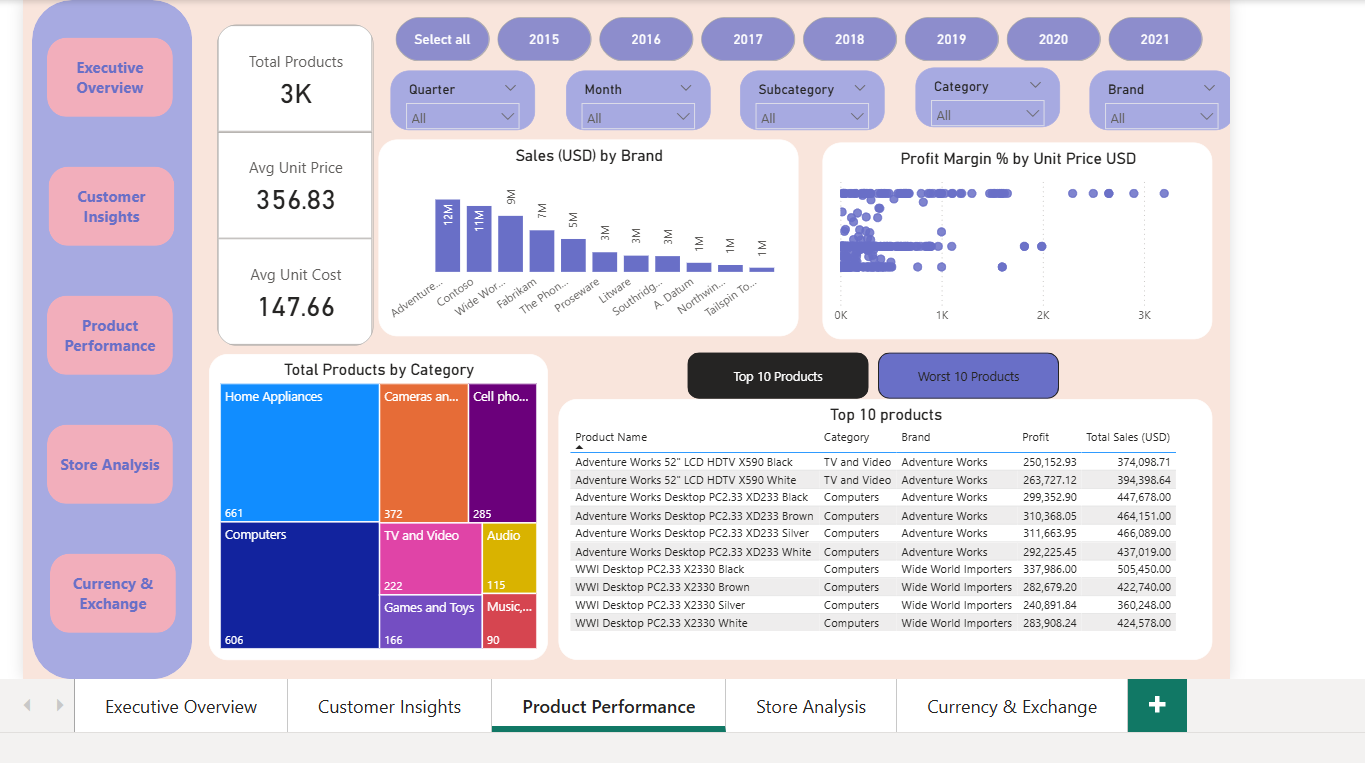

The dashboard page shown, as its layout file describes it:
{"tool":"powerbi","page":{"name":"Product Performance","canvas":[1280,720],"ordinal":2},"visuals":[{"type":"group","id":"g1","title":"Group 3","box":[10,0,170,720.4],"z":0},{"type":"actionButton","box":[28.4,177.4,133.6,84.3],"z":0,"group":"g2"},{"type":"cardVisual","fields":{"Data":["Products.Total Products","Products.Average Unit Price (USD)","Products.Average Unit Cost (USD)"]},"box":[200.4,20.7,176.6,353.1],"z":1000},{"type":"actionButton","box":[26.7,314.3,133.6,84.3],"z":1000,"group":"g2"},{"type":"shape","box":[10,0,170,720.4],"z":2000,"group":"g1"},{"type":"slicer","fields":{"Values":["Products.Brand"]},"box":[1130.9,74.8,153,63],"z":2000},{"type":"actionButton","box":[26.7,451.3,133.6,84.3],"z":2000,"group":"g2"},{"type":"slicer","fields":{"Values":["Category.Category"]},"box":[945.7,71.6,153,63],"z":3000},{"type":"actionButton","box":[30.1,588.2,133.6,84.3],"z":3000,"group":"g2"},{"type":"slicer","fields":{"Values":["Subcategory.Subcategory"]},"box":[760.4,74.8,153,63],"z":4000},{"type":"columnChart","title":"Sales (USD) by Brand","fields":{"Y":["Sales.Total Sales (USD)"],"Category":["Products.Brand"]},"box":[377,147.9,445.4,208.4],"z":5000},{"type":"treemap","fields":{"Group":["Category.Category","Subcategory.Subcategory"],"Values":["Products.Total Products"]},"box":[197.2,375.4,359.5,324.5],"z":6000},{"type":"scatterChart","fields":{"Y":["Sales.Profit Margin %"],"X":["Products.Unit Price USD"]},"box":[847.8,151.1,413.6,208.4],"z":7000},{"type":"actionButton","box":[26.7,40.5,133.6,84.3],"z":7001,"group":"g3"},{"type":"group","id":"g2","title":"Group 1","box":[26.7,177.4,137,495.1],"z":7006,"group":"g3"},{"type":"group","id":"g3","title":"Group 2","box":[26.7,40.5,137,632],"z":7007,"group":"g1"},{"type":"tableEx","title":"Top 10 products","fields":{"Values":["Products.Product Name","Category.Category","Products.Brand","Sales.Profit","Sales.Total Sales (USD)"]},"box":[567.8,423.1,693.5,276.8],"z":8000},{"type":"bookmarkNavigator","box":[704.6,373.8,394.5,49.3],"z":10000},{"type":"advancedSlicerVisual","fields":{"Values":["Date.Year"]},"box":[389.7,12.7,871.7,57.3],"z":11000},{"type":"slicer","fields":{"Values":["Date.Month"]},"box":[575.2,74.8,153,63],"z":12000},{"type":"slicer","fields":{"Values":["Date.Quarter"]},"box":[389.7,74.8,153,63.6],"z":13000}]}

Visuals, with their boxes on the page's 1280x720 design canvas (x1, y1, x2, y2). These are canvas units, not pixel positions in the 1365x763 screenshot, which may show the page scaled, cropped or inside an application window:
"Group 3" group: detection(10, 0, 180, 720)
actionButton: detection(28, 177, 162, 262)
cardVisual - Products.Total Products x Products.Average Unit Price (USD): detection(200, 21, 377, 374)
actionButton: detection(27, 314, 160, 399)
shape: detection(10, 0, 180, 720)
slicer - Products.Brand: detection(1131, 75, 1284, 138)
actionButton: detection(27, 451, 160, 536)
slicer - Category.Category: detection(946, 72, 1099, 135)
actionButton: detection(30, 588, 164, 672)
slicer - Subcategory.Subcategory: detection(760, 75, 913, 138)
"Sales (USD) by Brand" columnChart: detection(377, 148, 822, 356)
treemap - Category.Category x Subcategory.Subcategory: detection(197, 375, 557, 700)
scatterChart - Sales.Profit Margin % x Products.Unit Price USD: detection(848, 151, 1261, 360)
actionButton: detection(27, 40, 160, 125)
"Group 1" group: detection(27, 177, 164, 672)
"Group 2" group: detection(27, 40, 164, 672)
"Top 10 products" tableEx: detection(568, 423, 1261, 700)
bookmarkNavigator: detection(705, 374, 1099, 423)
advancedSlicerVisual - Date.Year: detection(390, 13, 1261, 70)
slicer - Date.Month: detection(575, 75, 728, 138)
slicer - Date.Quarter: detection(390, 75, 543, 138)
